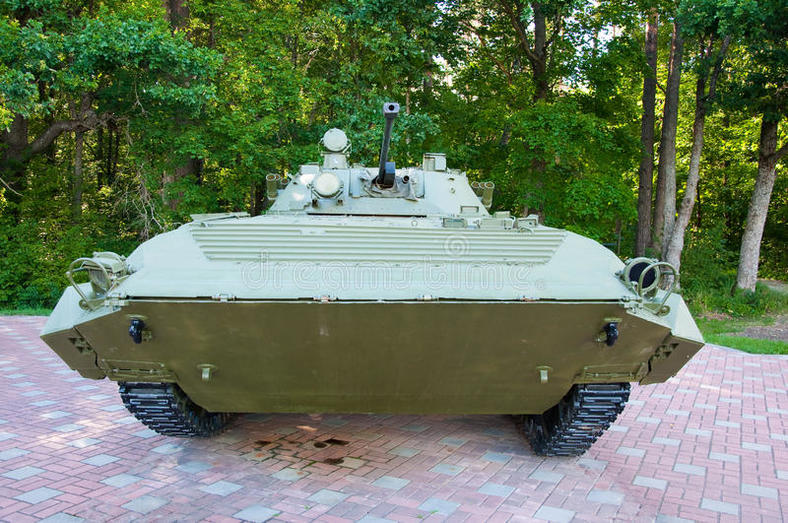bmp: (43, 146, 704, 463)
